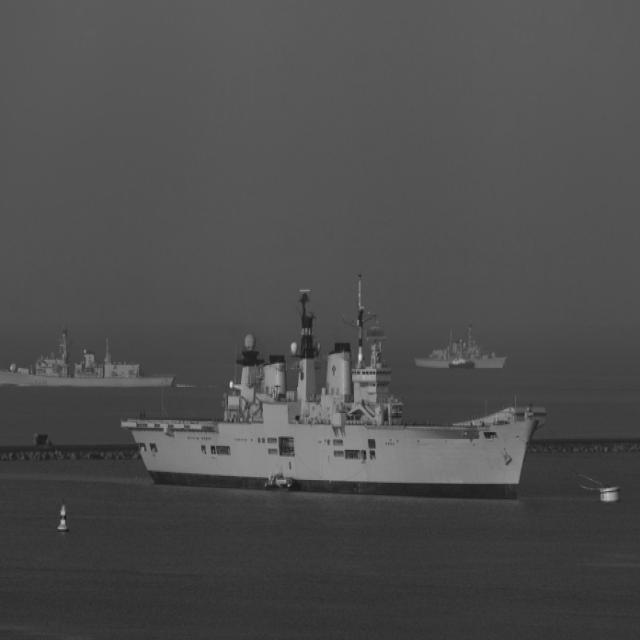Portanaves: (118, 271, 549, 505)
